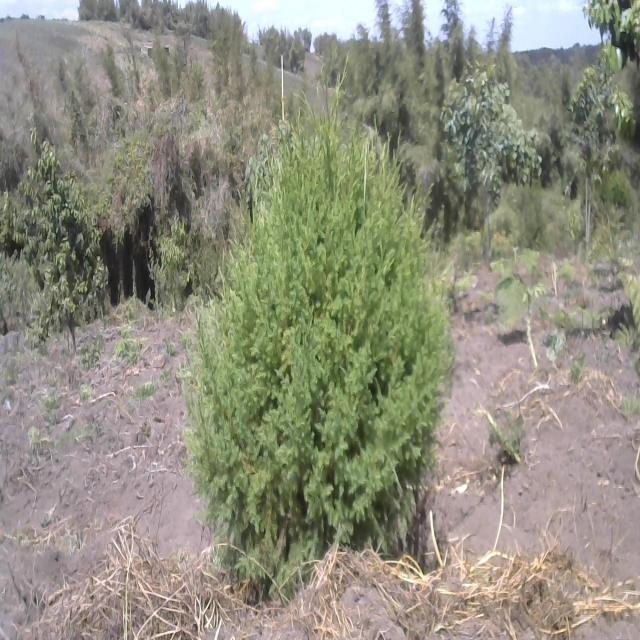Juniperus procesera: (186, 77, 450, 588)
